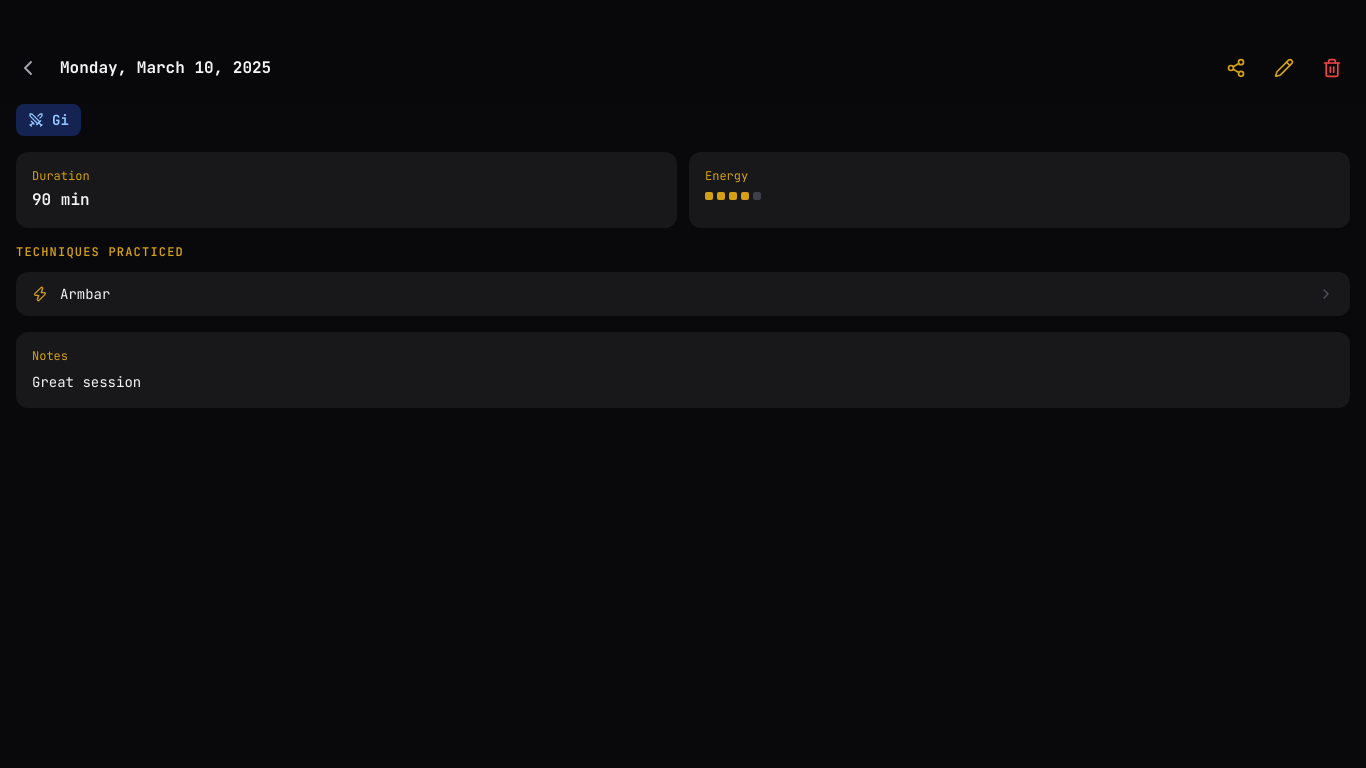
Test case: SessionDetailPage — delete flow › opens in-app delete modal with session details
This screenshot has width=1366, height=768.
Expected: the text "Armbar" is shown, [60,285,110,303]
Click the button with class "lucide-trash-2".
click(1332, 68)  # box [1314,50,1350,86]
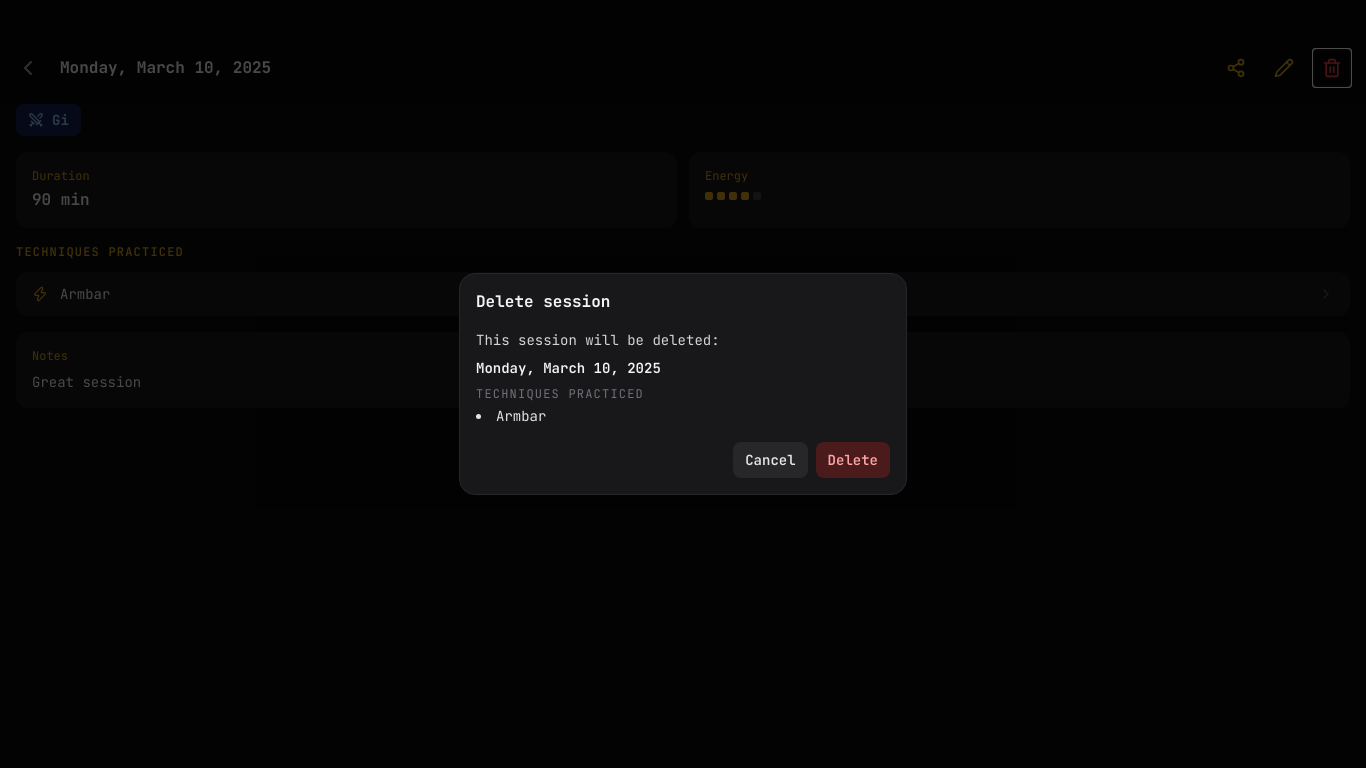
Expected: the text "Armbar" is shown, [60,285,110,303]
Expected: the heading "Delete session" is shown, [476,291,610,312]
Expected: the text "This session will be deleted:" is shown, [476,331,720,349]
